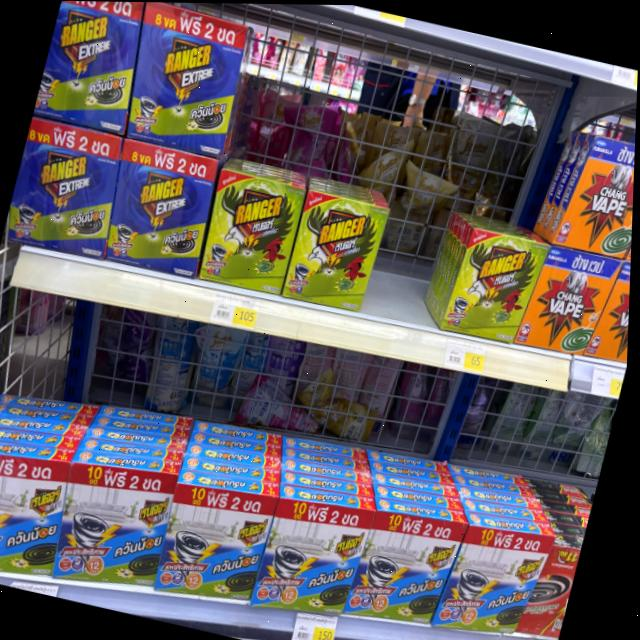empty_shelf: (0, 293, 563, 532), (360, 77, 497, 332), (229, 29, 420, 209), (474, 98, 590, 240)
